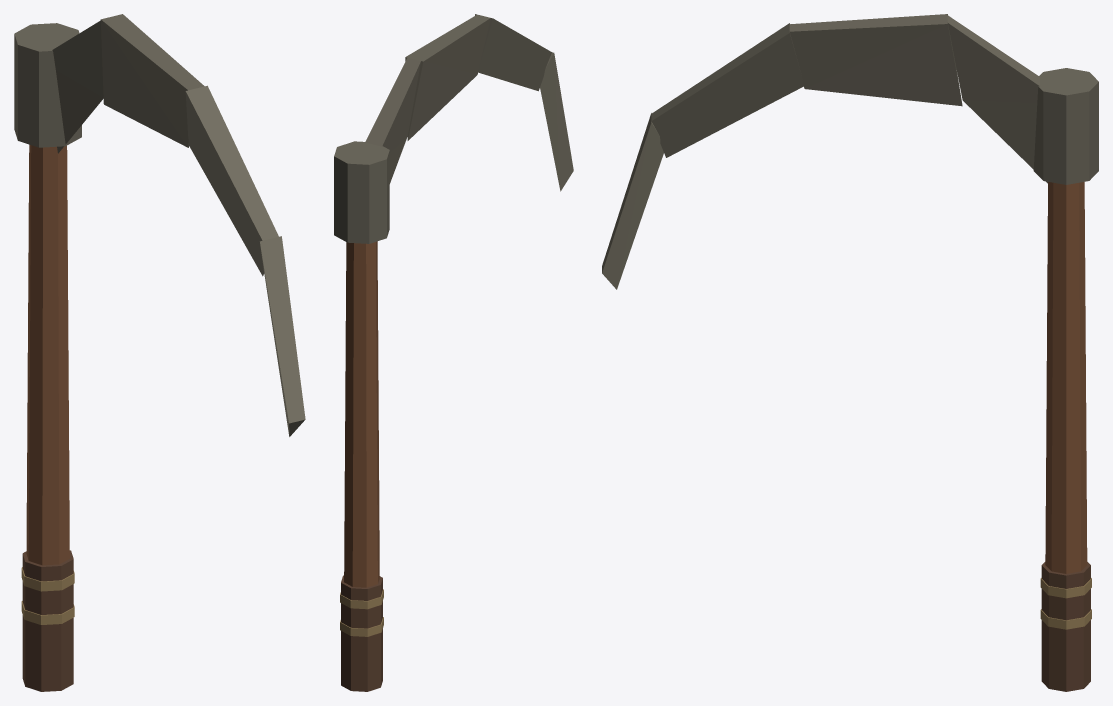
Rendered from tool_scythe_base.glb.
3 renders of one model, left to right at view 1: azimuth 30°, elevation 25°; view 2: azimuth 150°, elevation 25°; view 3: azimuth 270°, elevation 25°, orthographic. The views are drawn at different scales.
Visible parts, largest first — view 1: tool_scythe_base; view 2: tool_scythe_base; view 3: tool_scythe_base.
Part boxes in pixels (bbox=[...]): tool_scythe_base: bbox=[14, 14, 305, 691]; tool_scythe_base: bbox=[334, 14, 573, 691]; tool_scythe_base: bbox=[602, 14, 1098, 691].
Size of the model in its own units: 0.066 by 0.74 by 0.503.
